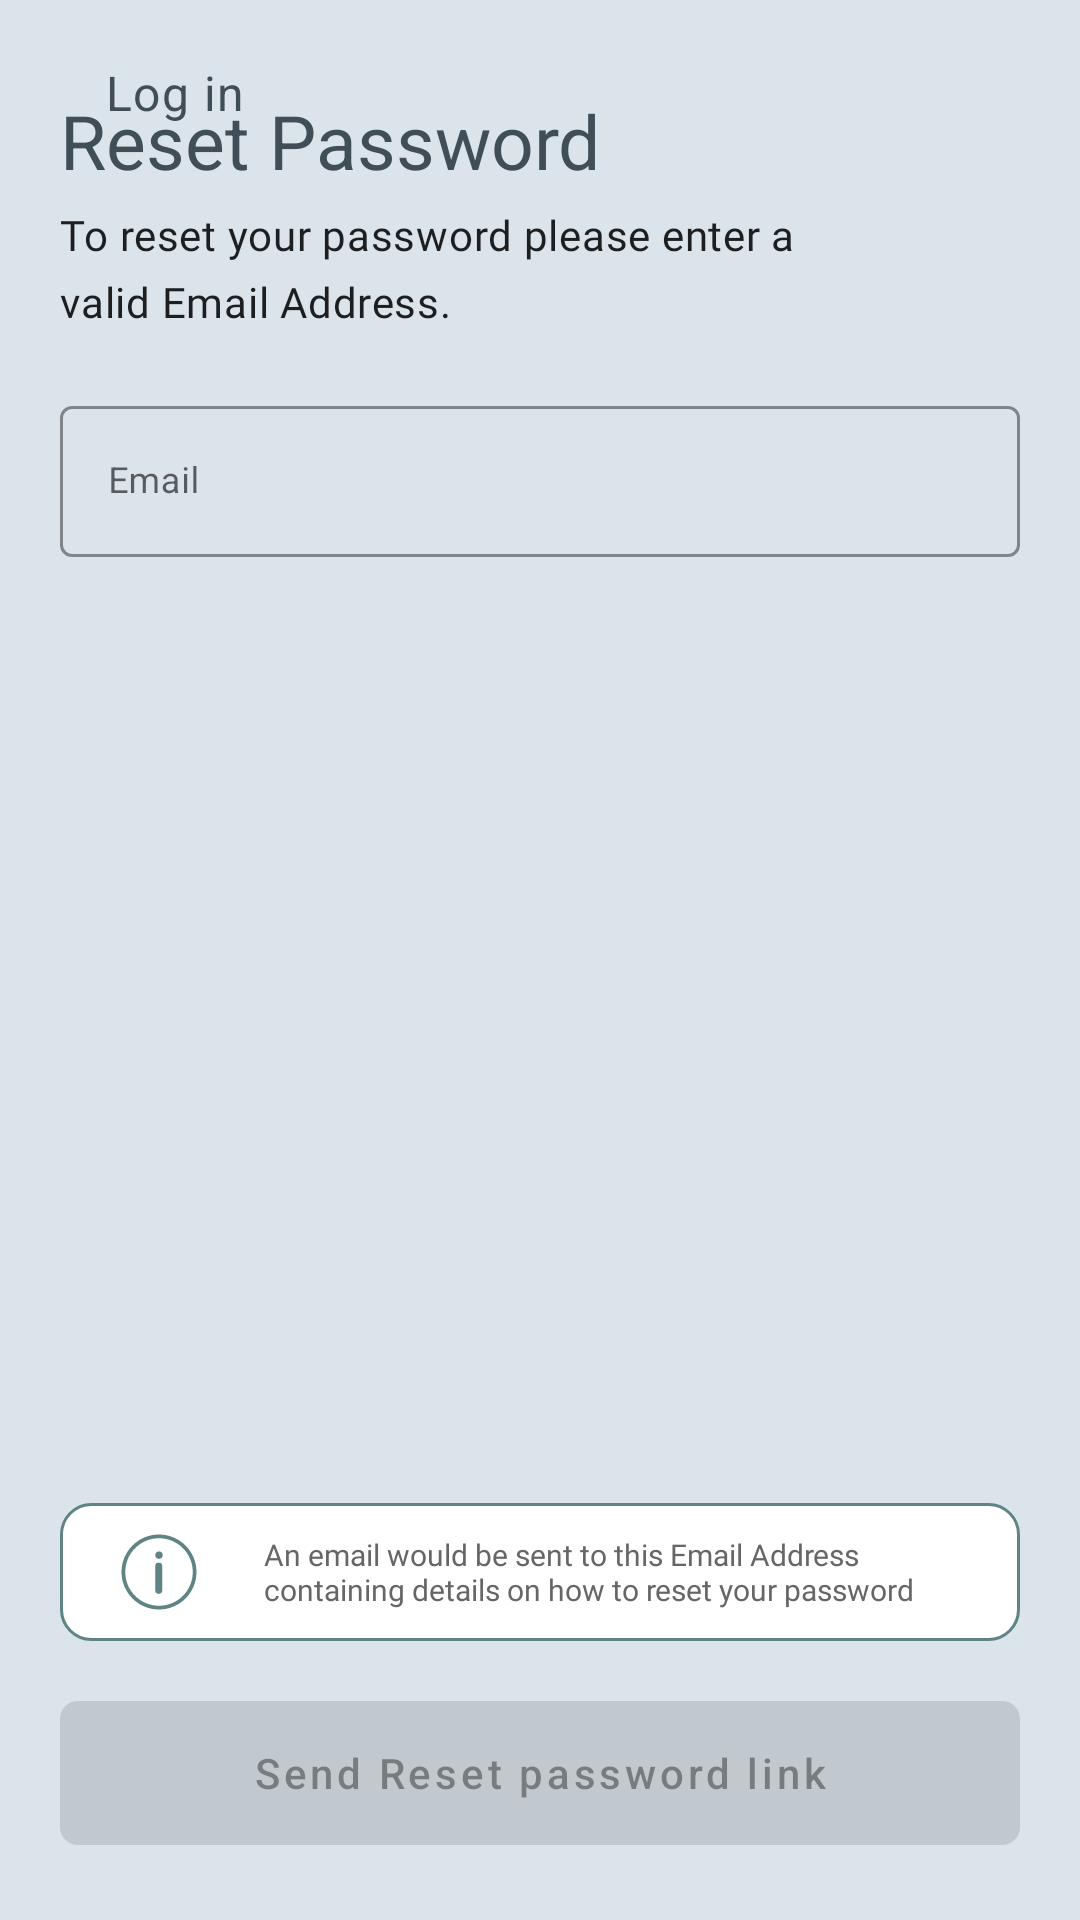

Where to tap for icons on this 1080px×1920px app screen, as (x,y):
iconinterfaceinfo: (159,1572)
